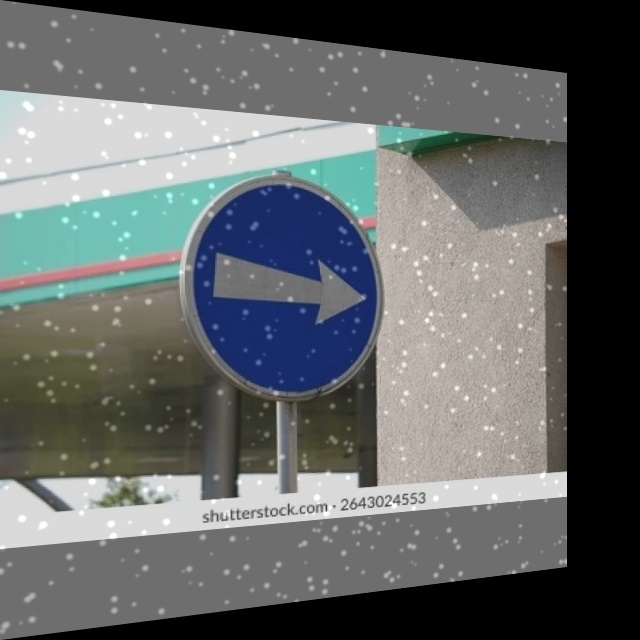Compulsory_Turn_Right: (186, 167, 389, 406)
